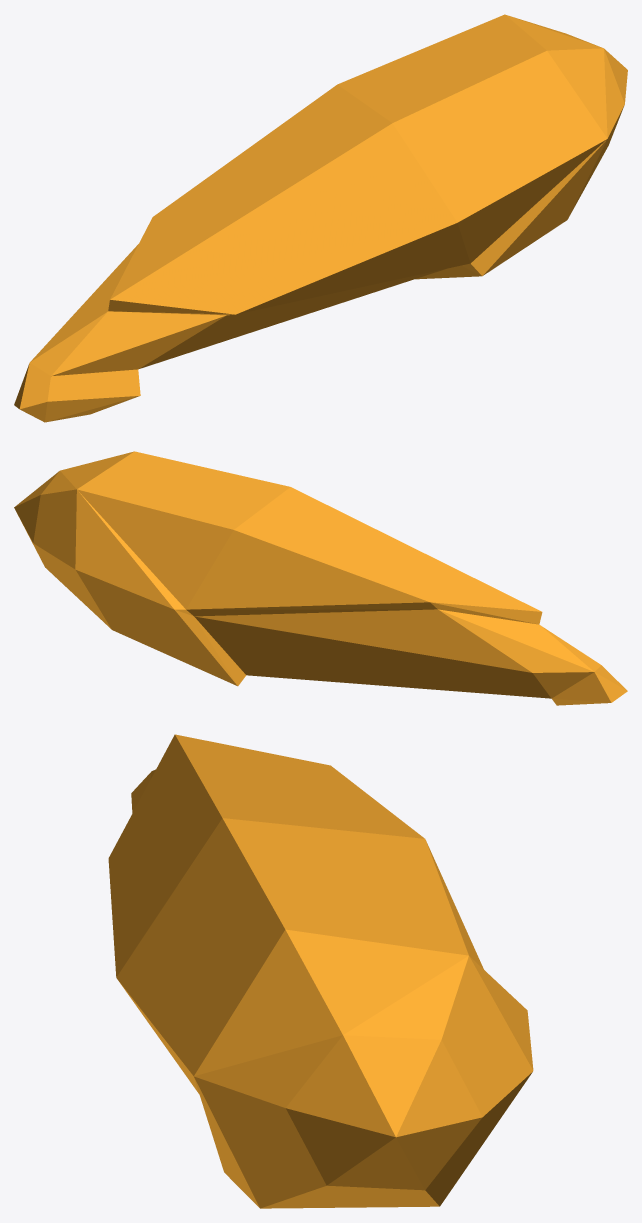
File: SM_Corn_D.fbx
The picture shows the model from 3 angles, top to bottom: view 1: azimuth 30°, elevation 25°; view 2: azimuth 150°, elevation 25°; view 3: azimuth 270°, elevation 25°; orthographic projection. The views are drawn at different scales.
Visible parts, largest first — view 1: corn-d; view 2: corn-d; view 3: corn-d.
Boxes of the visible parts, x1,y1,x2,y2 form: corn-d: (14,14,627,422); corn-d: (14,451,627,705); corn-d: (108,734,533,1208).
Size of the model in its own units: 0.3816 by 0.1175 by 0.1271.
